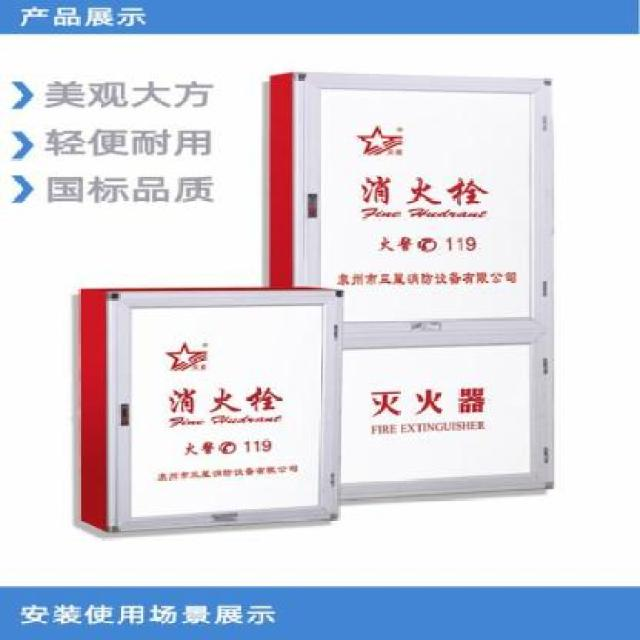firehydrant: (263, 66, 559, 507), (68, 282, 348, 544)
